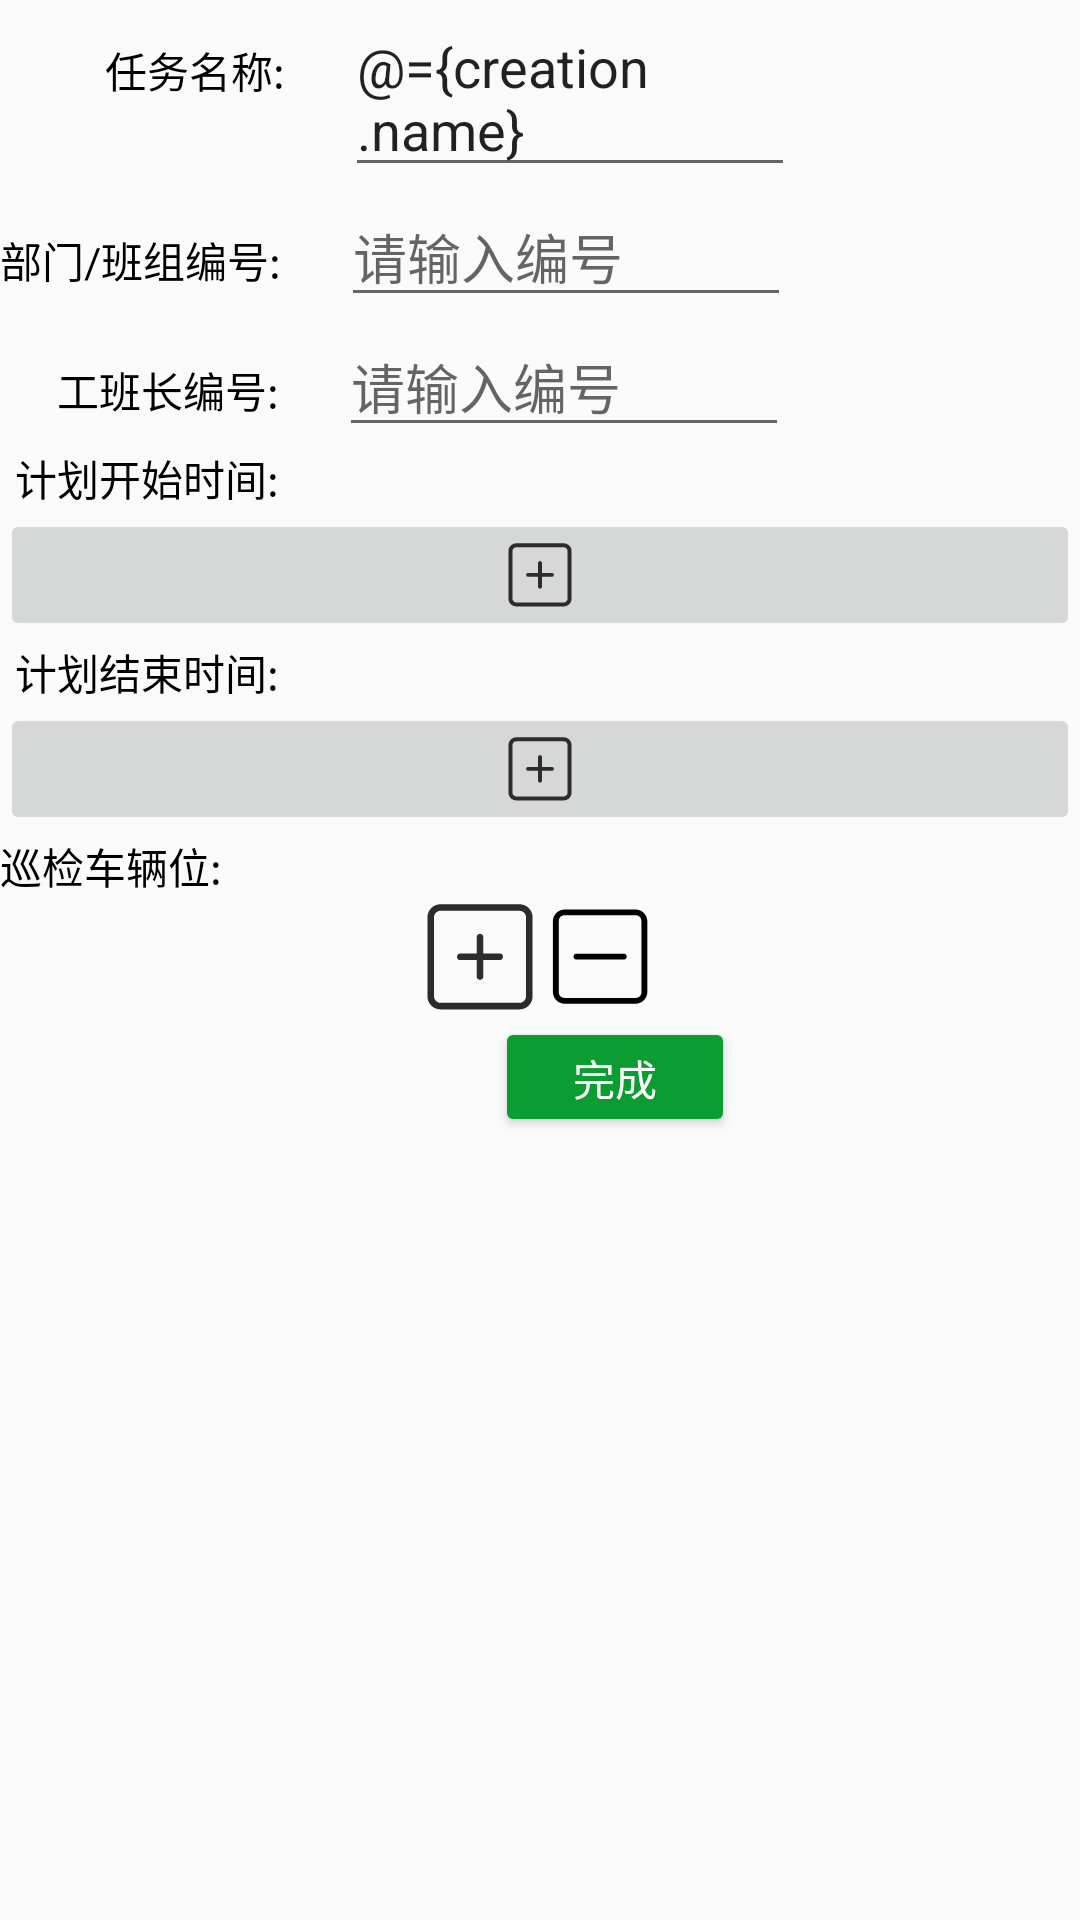

Named icons in this screenshot (1080px x 1920px) and their bounding boxes, (x1, y1, x2, y2):
subtract: (552, 909, 648, 1004)
